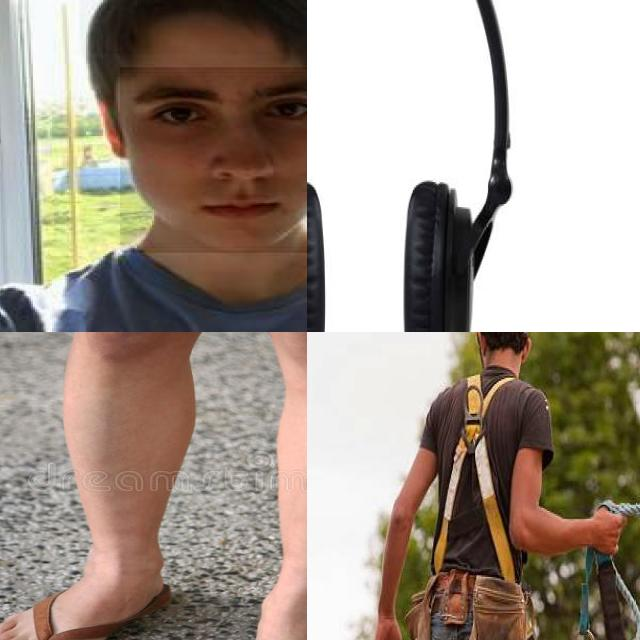Ear-protection: (307, 0, 536, 332)
Harness: (433, 374, 516, 582), (576, 548, 640, 640)
No_Glasses: (116, 71, 307, 137)
Sandals: (0, 539, 171, 640)
face_nomask: (120, 67, 307, 252)
head_nohelmet: (79, 0, 307, 54)
person: (0, 0, 307, 332)
